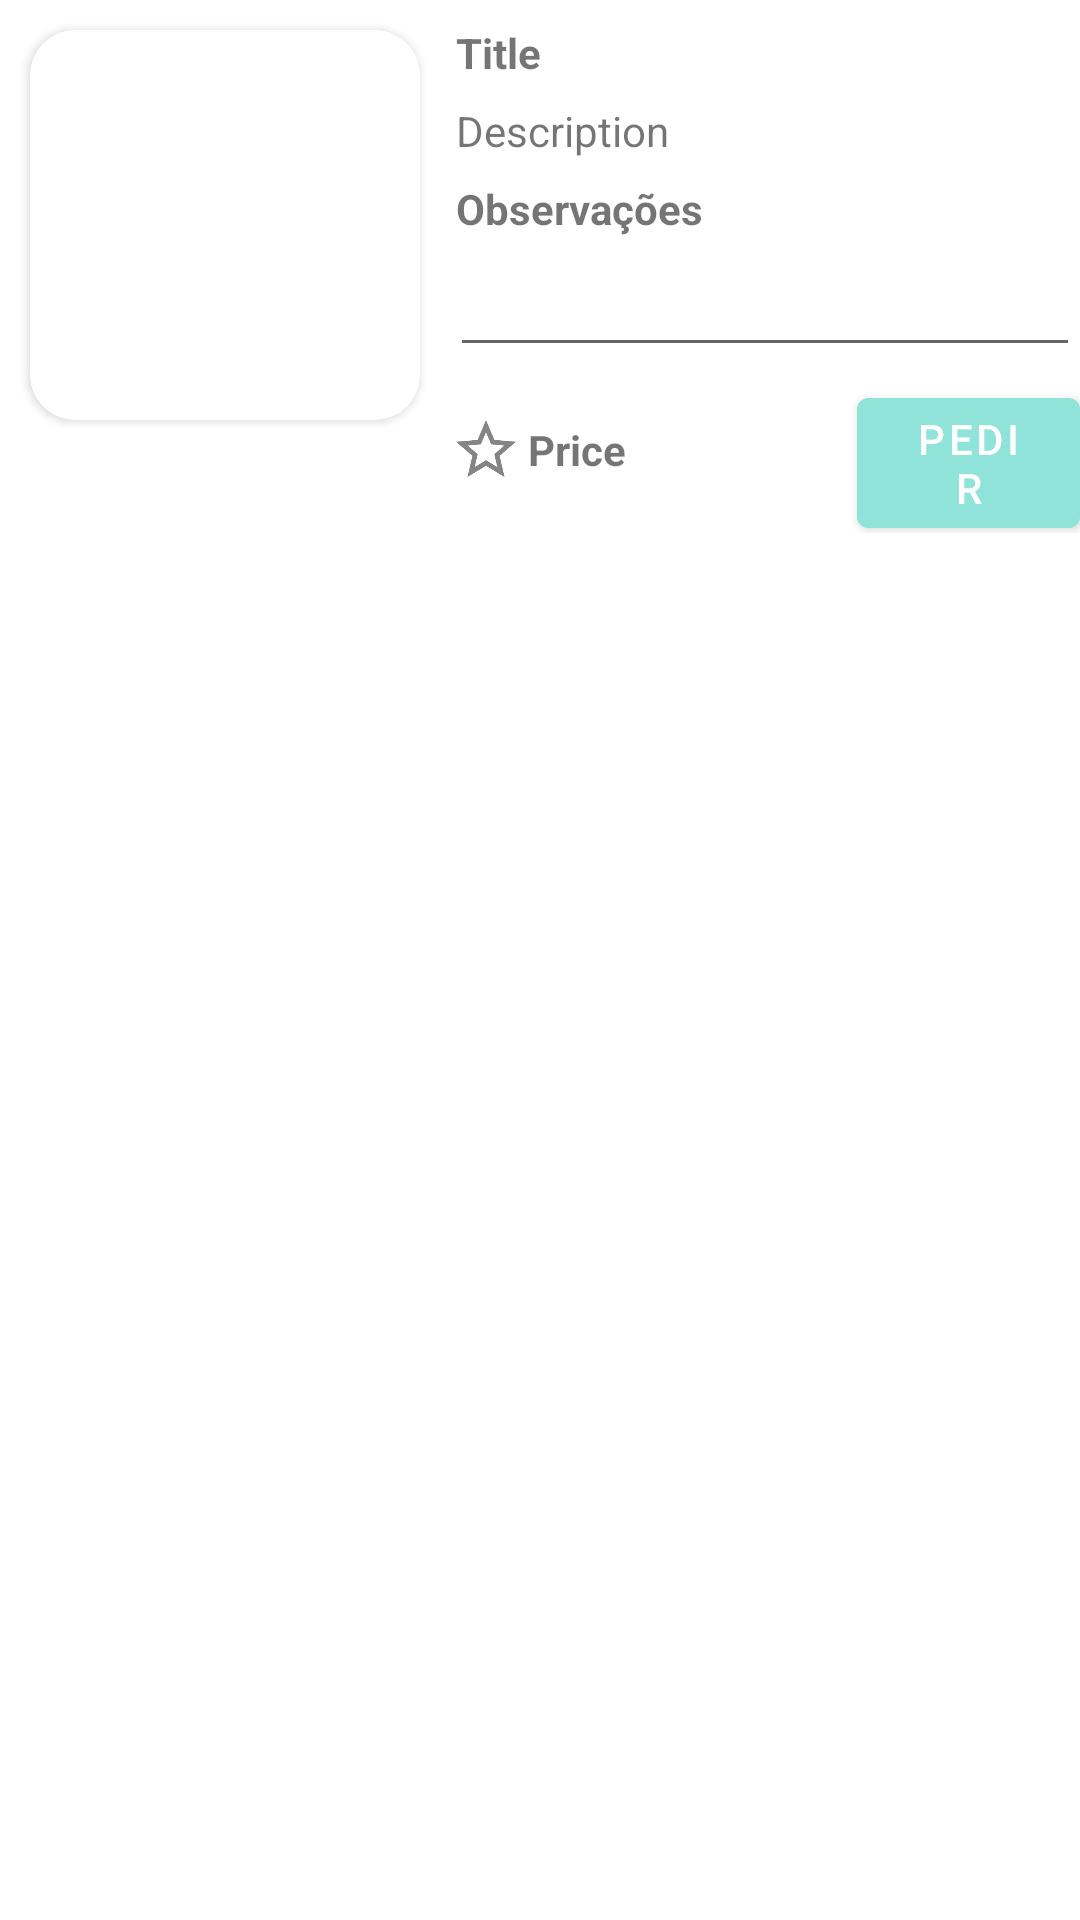

Icon click points for this 1080 × 1920 phone screenshot, format (x,y):
favourite empty: (486,449)
